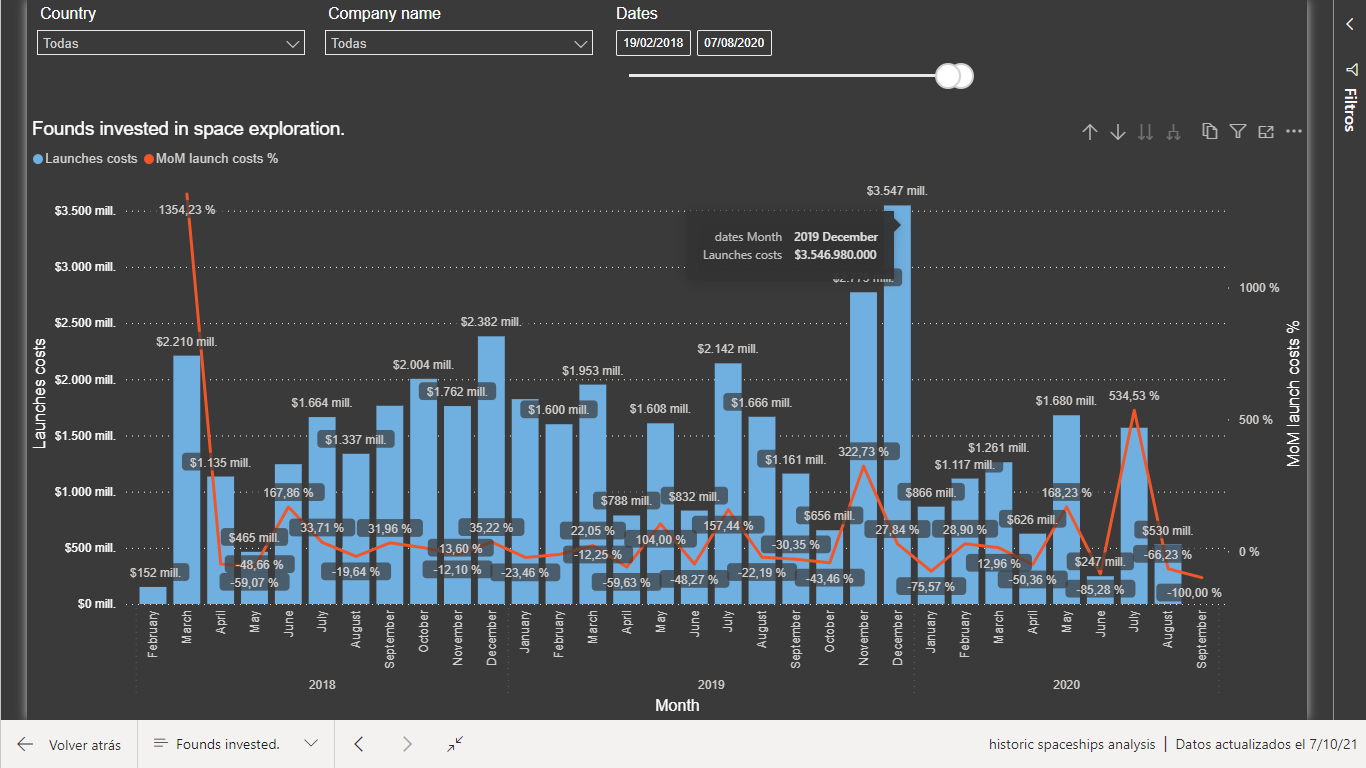

The dashboard page shown, as its layout file describes it:
{"tool":"powerbi","page":{"name":"Founds invested.","canvas":[1280,720],"ordinal":3},"visuals":[{"type":"slicer","fields":{"Values":["ships_data_clean.company name"]},"box":[288.5,0,288.5,89.6],"z":0},{"type":"slicer","fields":{"Values":["ships_data_clean.country"]},"box":[0,0,288.5,89.6],"z":1000},{"type":"slicer","fields":{"Values":["ships_data_clean.dates"]},"box":[576.2,0,379.4,234.6],"z":2000},{"type":"lineClusteredColumnComboChart","title":"Founds invested in space exploration.","fields":{"Category":["ships_data_clean.dates.Variation.Date Hierarchy.Year","ships_data_clean.dates.Variation.Date Hierarchy.Month"],"Y":["_Measures.Launches costs"],"Y2":["_Measures.MoM launch costs %"]},"box":[0,118.1,1280,601.4],"z":3000},{"type":"image","box":[1204.3,0,75.3,117.9],"z":3001}]}

Visuals, with their boxes on the page's 1280x720 design canvas (x1, y1, x2, y2). These are canvas units, not pixel positions in the 1366x768 screenshot, which may show the page scaled, cropped or inside an application window:
slicer - ships_data_clean.company name: 288, 0, 577, 90
slicer - ships_data_clean.country: 0, 0, 288, 90
slicer - ships_data_clean.dates: 576, 0, 956, 235
"Founds invested in space exploration." lineClusteredColumnComboChart: 0, 118, 1280, 720
image: 1204, 0, 1280, 118
